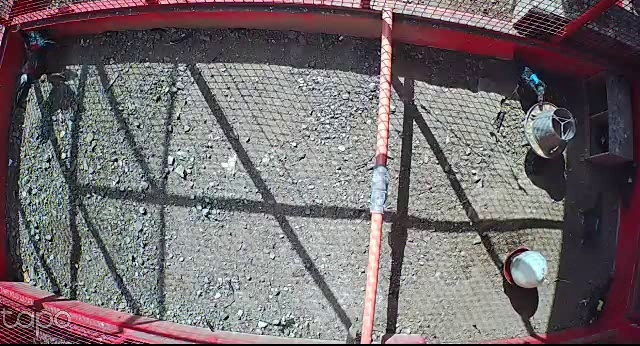Chicken: (504, 54, 552, 114), (578, 273, 618, 334), (576, 191, 610, 252), (610, 160, 640, 216)
Drinker: (502, 246, 546, 288)
Feeder: (522, 99, 579, 165)
Rooster: (12, 24, 71, 107)
Saddle_Color_Blue: (531, 72, 541, 84)
Saddle_Color_Yellow: (595, 298, 606, 312)
